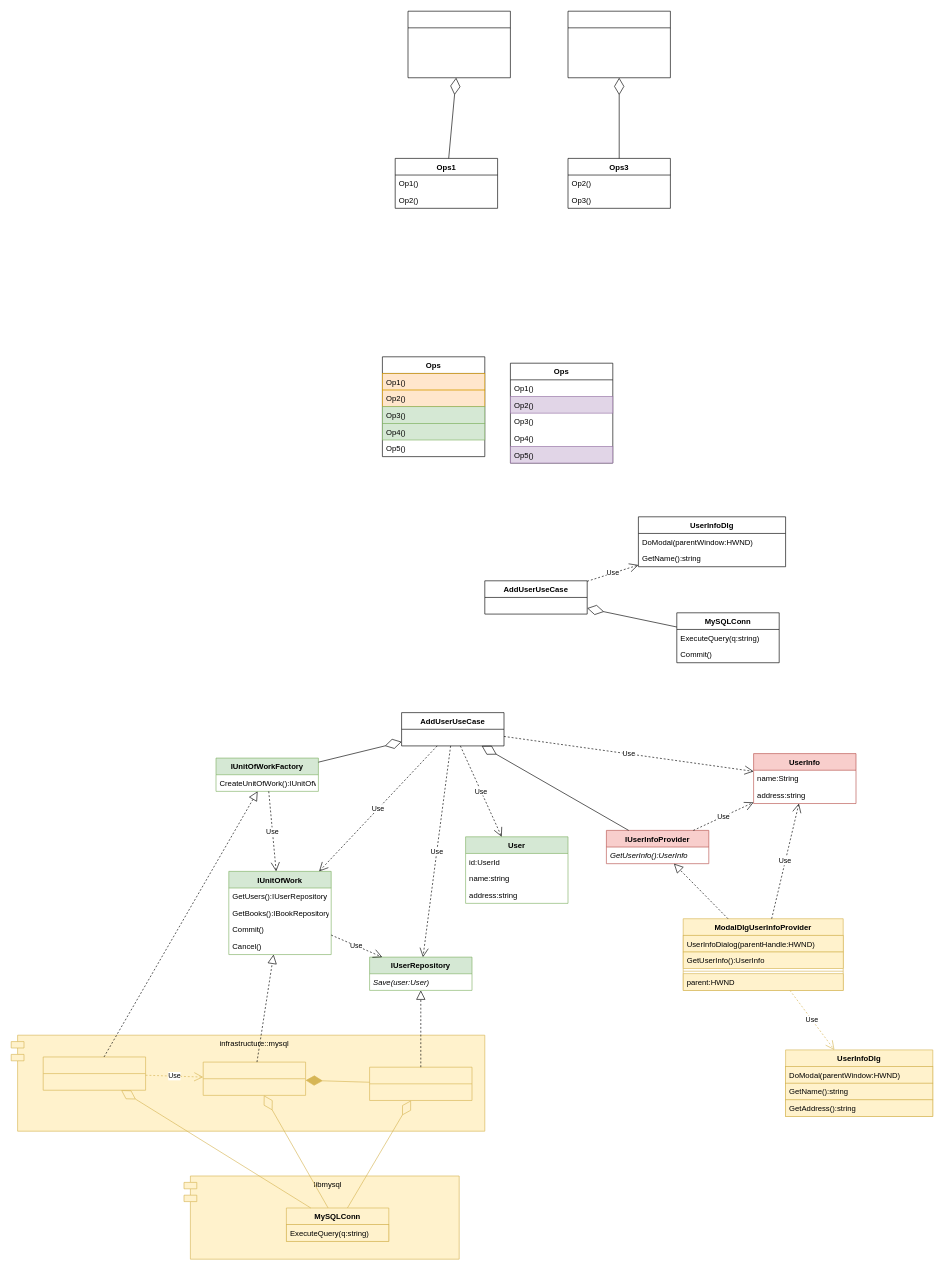
Some shapes in this 944 by 1270 pixel diagram are drawn without their labels. The shapes that lost their labels are listed below. From the top down, each one's centre as x and y in pixels, then its label:
the point at 458,44: C1
the point at 618,44: C2
the point at 94,1073: MySQLUnitOfWorkFactory
the point at 254,1078: MySQLUnitOfWork
the point at 420,1083: MySQLUserRepository
